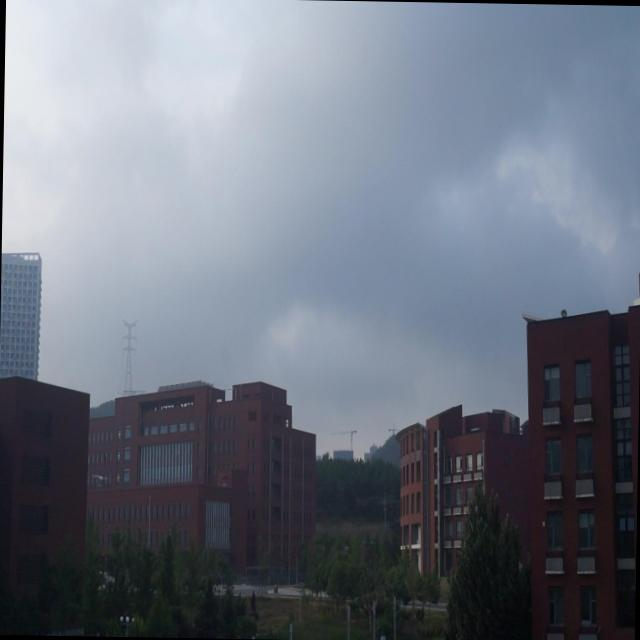drone: (92, 468, 110, 489)
